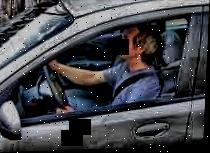seatbelt: (110, 63, 177, 97)
